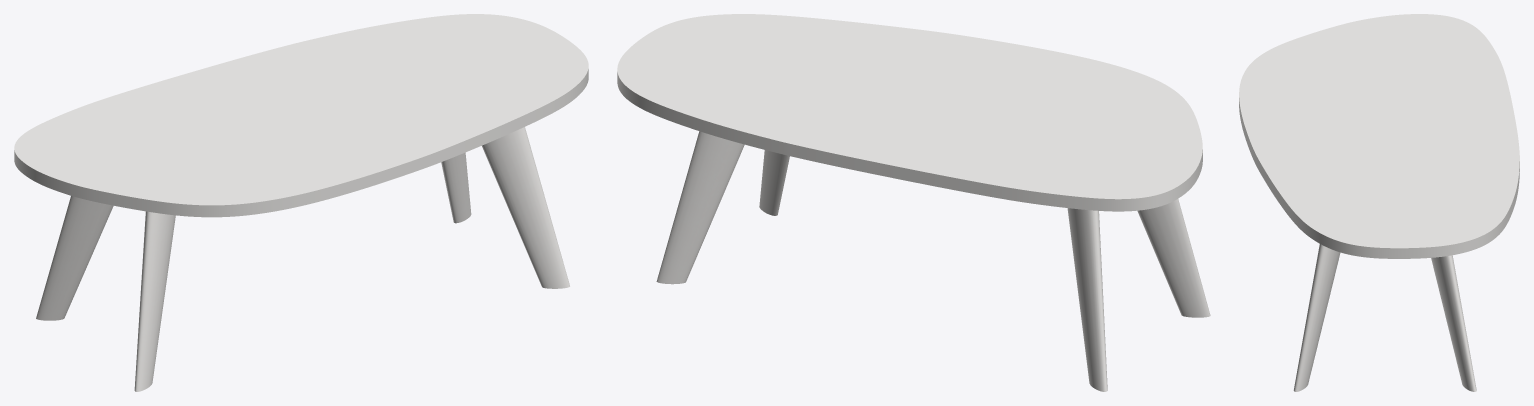
Rendered from purewhite_leaf2_standard_ferdinantwalnut.glb.
The picture shows the model from 3 angles, left to right: view 1: azimuth 30°, elevation 25°; view 2: azimuth 150°, elevation 25°; view 3: azimuth 270°, elevation 25°; orthographic projection. The views are drawn at different scales.
Visible parts, largest first — view 1: standard_leaf2, ferdinandwalnut; view 2: standard_leaf2, ferdinandwalnut; view 3: standard_leaf2, ferdinandwalnut.
Part boxes in pixels (x1,y1,x2,y2): standard_leaf2: (14, 14, 588, 217); ferdinandwalnut: (36, 127, 569, 391); standard_leaf2: (617, 14, 1202, 211); ferdinandwalnut: (656, 131, 1210, 391); standard_leaf2: (1239, 14, 1519, 258); ferdinandwalnut: (1293, 244, 1476, 391).
Size of the model in its own units: 7.5 by 2.53 by 3.8.
Materials: 1 (1 with a texture image).
